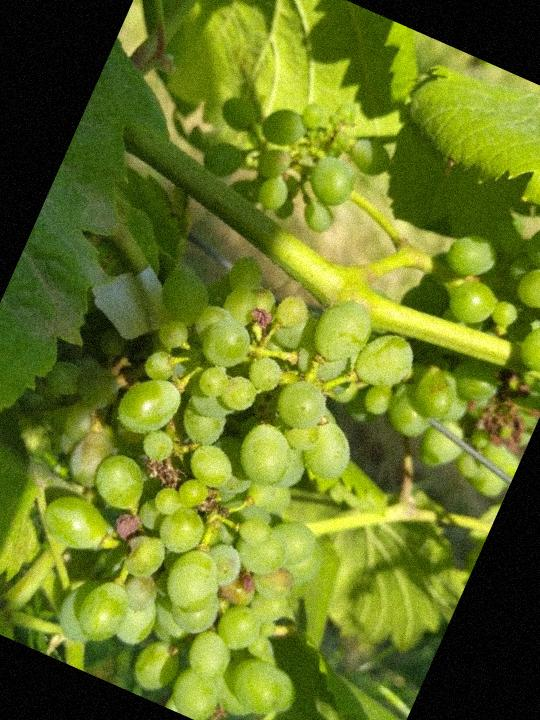grape: (0, 199, 459, 720), (339, 179, 540, 538), (186, 55, 407, 251)
